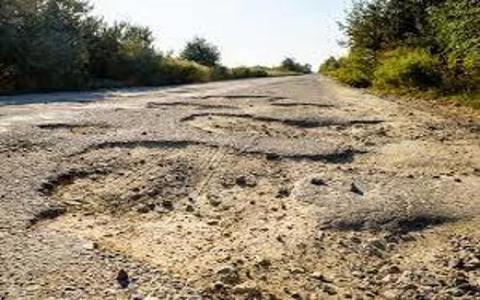patchy roads: (211, 93, 430, 261), (12, 101, 203, 246)
